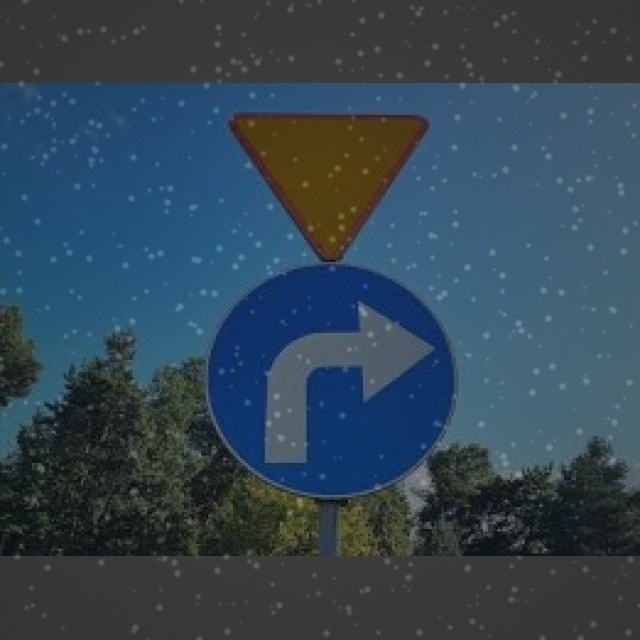Compulsory_Turn_Right_Ahead: (207, 266, 458, 493)
